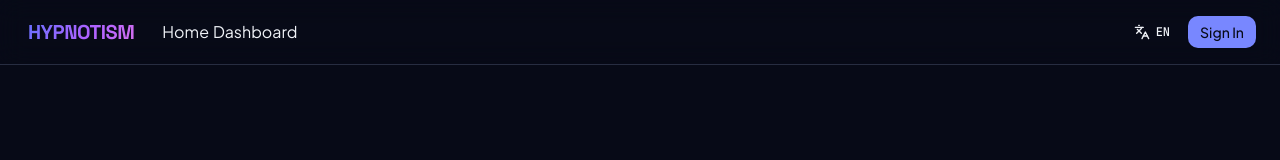
Test case: language switcher › switches visible interface text between English and Malayalam
Expected: the link "Home" is shown, [162,20,209,44]
Expected: the button "Sign In" is shown, [1188,16,1256,48]
Click the button with aria-label "Switch language".
click(1152, 32)  # box [1124,16,1180,48]
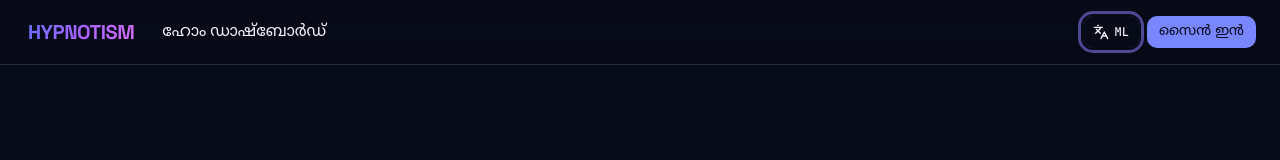
Now the link "ഹോം" is shown, box [162,18,206,46]
Now the button "സൈൻ ഇൻ" is shown, box [1147,16,1256,48]
Now the link "Home" is gone
